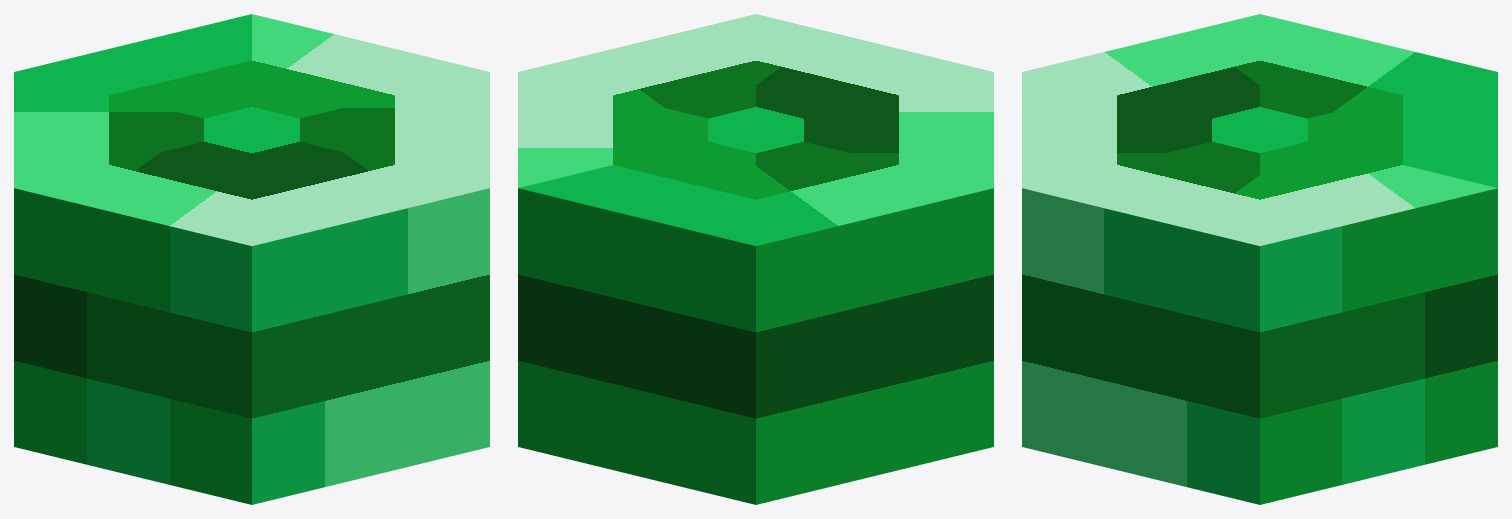
Rendered from emerald_coins_0.obj.
The picture shows the model from 3 angles, left to right: view 1: azimuth 30°, elevation 25°; view 2: azimuth 150°, elevation 25°; view 3: azimuth 270°, elevation 25°; orthographic projection.
Parts seen in each view (by area): view 1: cylinder; view 2: cylinder; view 3: cylinder.
Boxes of the visible parts, <box> form: cylinder: <box>14,14,489,504</box>; cylinder: <box>518,14,993,504</box>; cylinder: <box>1022,14,1497,504</box>.
Size of the model in its own units: 0.3608 by 0.1875 by 0.3125.
